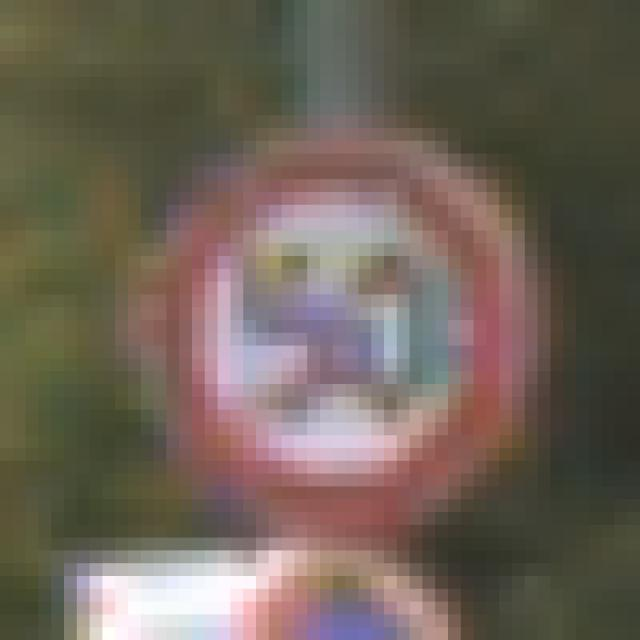Limite-50: (141, 124, 553, 542)
